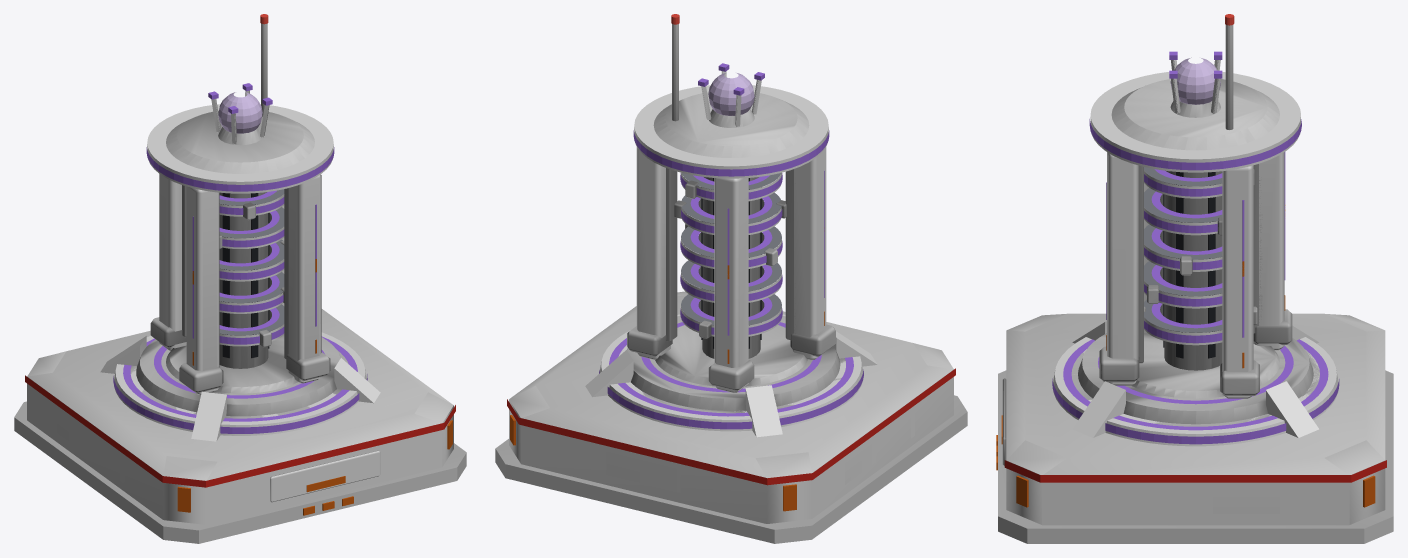
Rendered from chain_2.glb.
The picture shows the model from 3 angles, left to right: view 1: azimuth 30°, elevation 25°; view 2: azimuth 150°, elevation 25°; view 3: azimuth 270°, elevation 25°; orthographic projection. The views are drawn at different scales.
Parts seen in each view (by area): view 1: Rumpf, Ladung, Spulen, LadungSpulen, Kern; view 2: Rumpf, Ladung, Spulen, LadungSpulen, Kern; view 3: Rumpf, Ladung, Spulen, LadungSpulen, Kern.
Part boxes in pixels (x1,y1,x2,y2): Rumpf: (14,14,466,543); Ladung: (113,83,367,433); Spulen: (219,189,284,347); LadungSpulen: (219,190,284,344); Kern: (218,92,262,133); Rumpf: (495,14,967,543); Ladung: (599,63,863,429); Spulen: (674,172,786,338); LadungSpulen: (680,173,782,334); Kern: (708,73,754,115); Rumpf: (996,14,1393,543); Ladung: (1052,51,1339,444); Spulen: (1144,167,1257,345); LadungSpulen: (1144,169,1222,343); Kern: (1170,57,1220,104).
Bounding box in the file's own units: 0.94 × 1.22 × 0.944.
